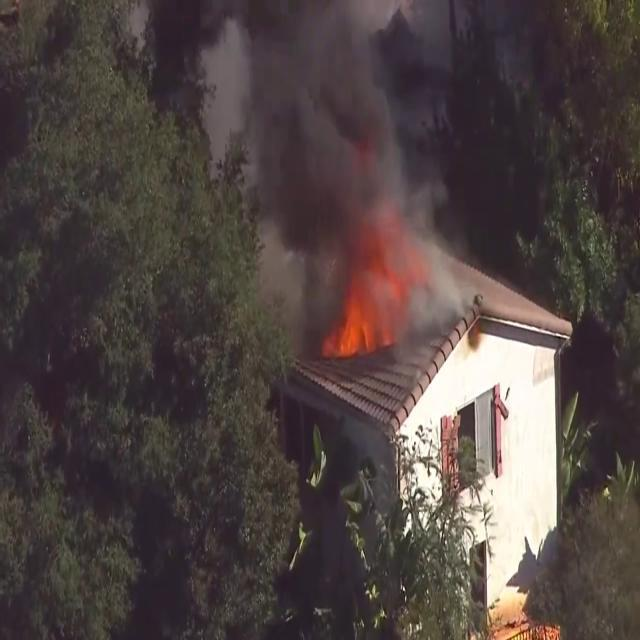Fire: (332, 280, 384, 358)
Smoke: (199, 0, 454, 340)
